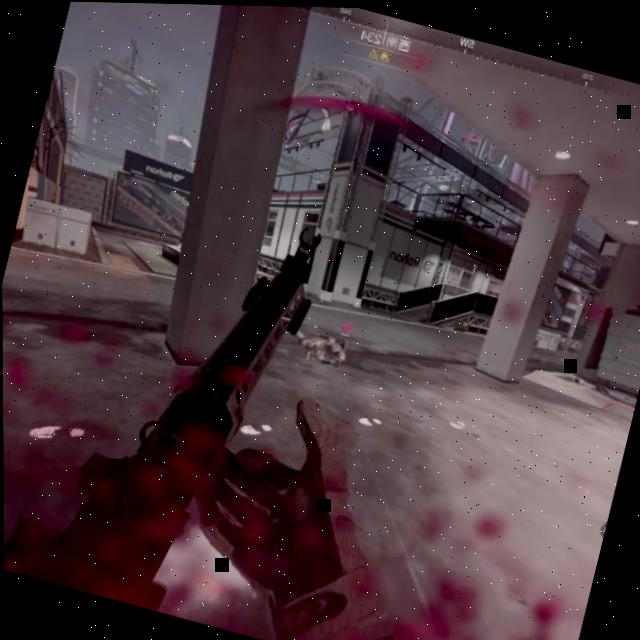MW2_body: (291, 308, 354, 371)
